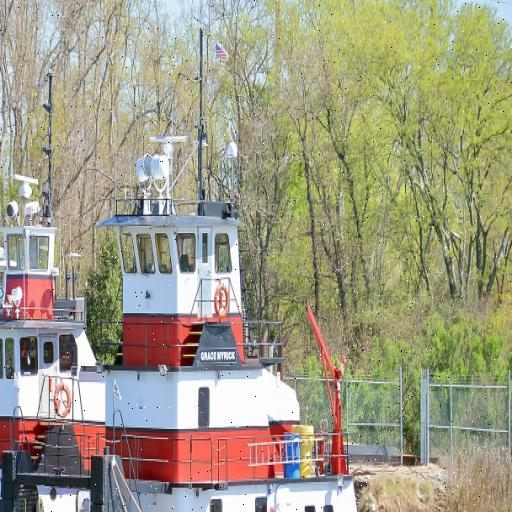tugboat: (1, 127, 506, 512)
